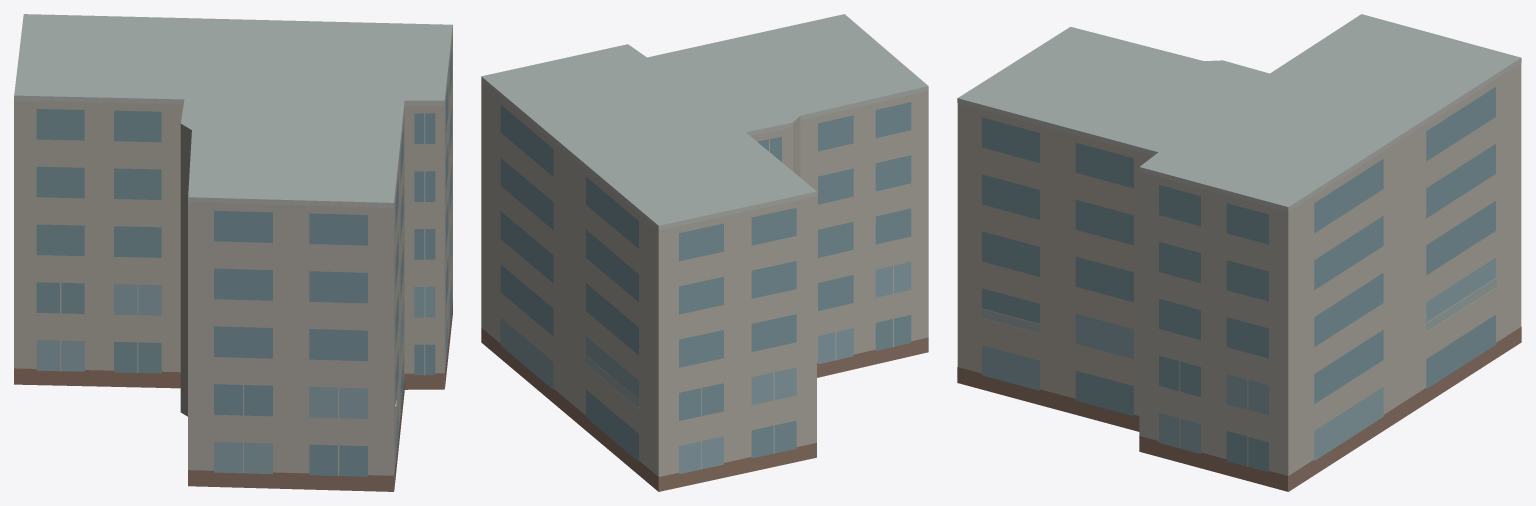
Rendered from survey-upis-32889867.glb.
3 views of the same model, side by side, from view 1: azimuth 30°, elevation 25°; view 2: azimuth 150°, elevation 25°; view 3: azimuth 270°, elevation 25° (orthographic). The views are drawn at different scales.
Visible parts, largest first — view 1: survey-upis-32889867.tmp; view 2: survey-upis-32889867.tmp; view 3: survey-upis-32889867.tmp.
Boxes of the visible parts, x1,y1,x2,y2 form: survey-upis-32889867.tmp: (14, 14, 452, 491); survey-upis-32889867.tmp: (481, 14, 928, 491); survey-upis-32889867.tmp: (957, 14, 1521, 491).
Size of the model in its own units: 20.37 by 14 by 25.14.
